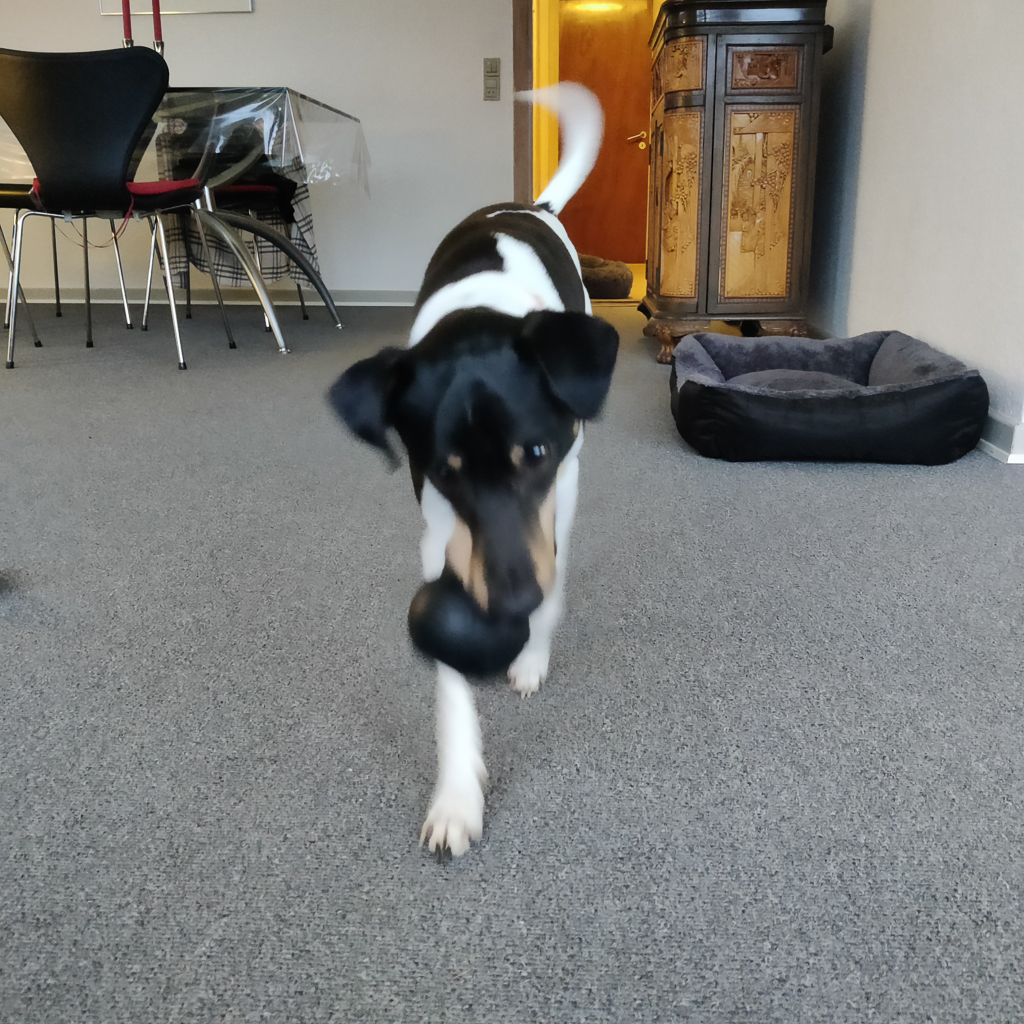Dog: (291, 61, 640, 898)
